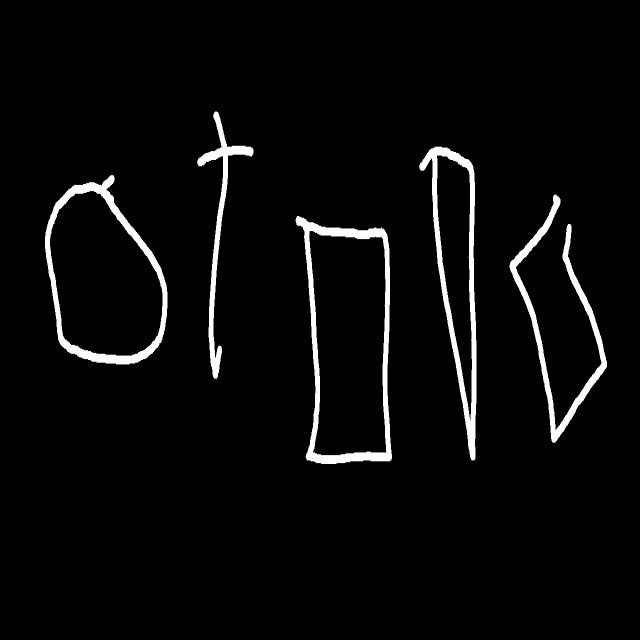Circle: (46, 176, 167, 364)
Cross: (198, 111, 253, 378)
Diamond: (510, 196, 606, 443)
Square: (296, 216, 390, 463)
Triangle: (419, 147, 476, 460)
